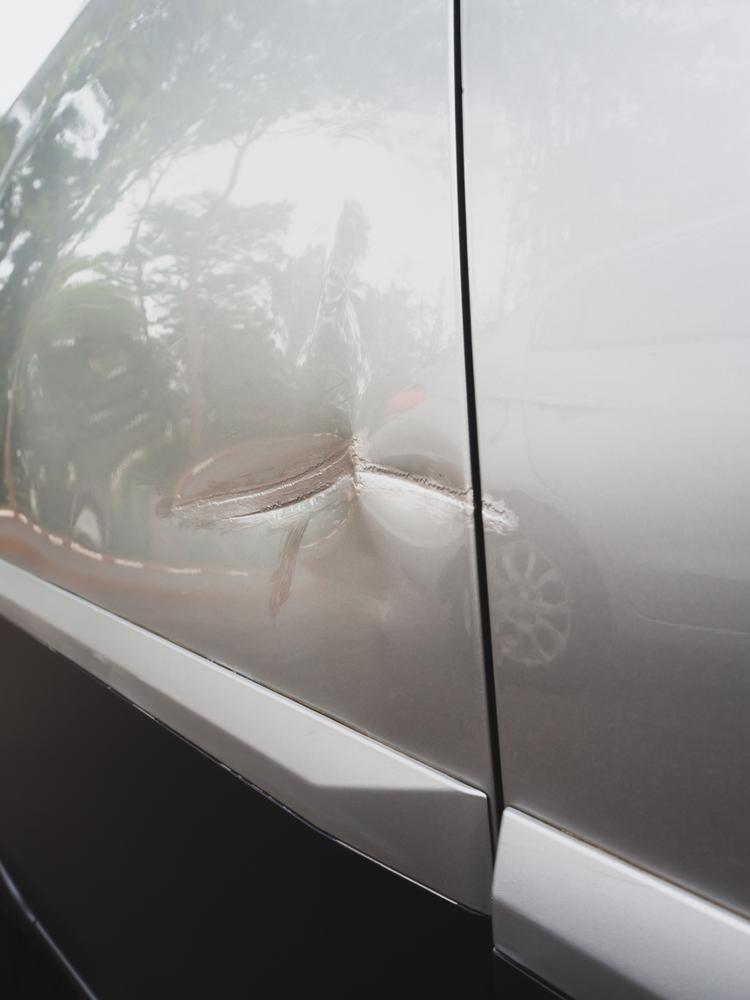dent: (164, 420, 474, 547)
scratch: (479, 491, 533, 538), (265, 541, 296, 622)
